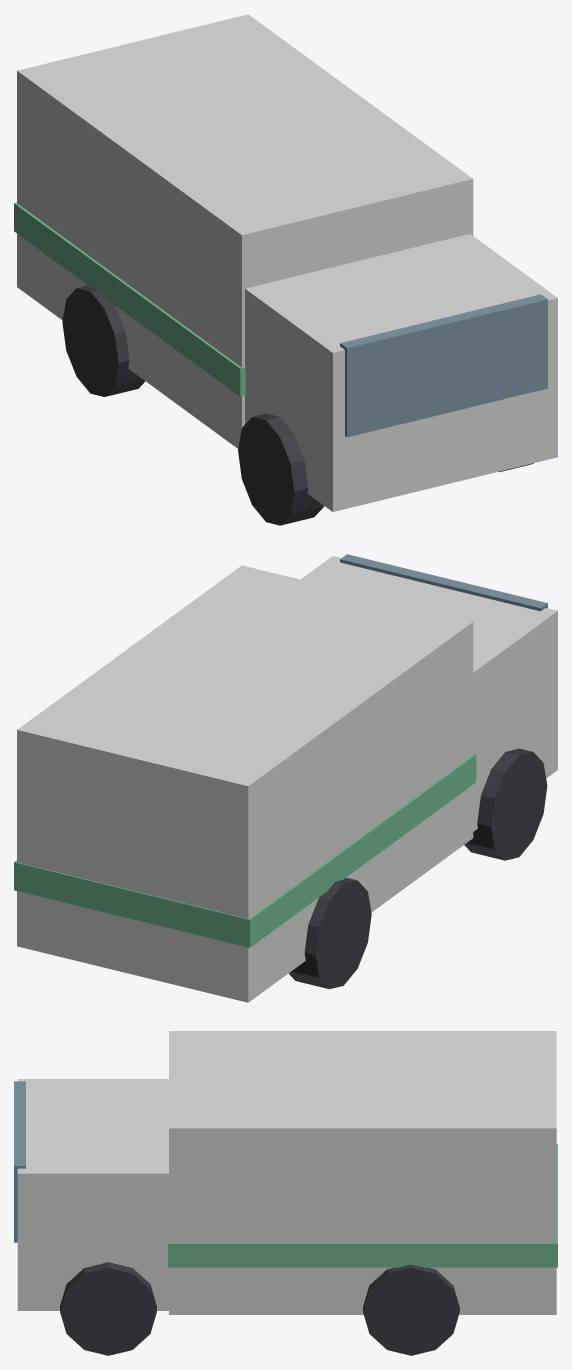
Rendered from van.glb.
The picture shows the model from 3 angles, top to bottom: view 1: azimuth 30°, elevation 25°; view 2: azimuth 150°, elevation 25°; view 3: azimuth 270°, elevation 25°; orthographic projection. The views are drawn at different scales.
Parts seen in each view (by area): view 1: van; view 2: van; view 3: van.
Part boxes in pixels (x1,y1,x2,y2): van: [14, 14, 557, 525]; van: [14, 554, 557, 1002]; van: [14, 1031, 557, 1355].
Bounding box in the file's own units: 2.08 × 2.03 × 4.49.
